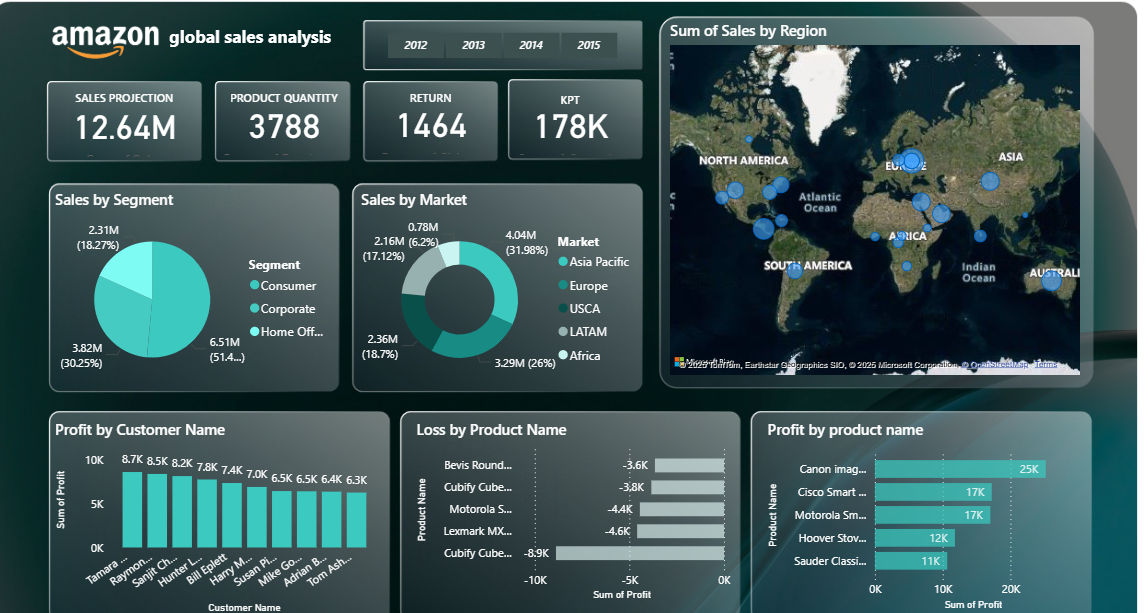

The dashboard page shown, as its layout file describes it:
{"tool":"powerbi","page":{"name":"Page 1","canvas":[1280,720],"ordinal":0},"visuals":[{"type":"slicer","fields":{"Values":["Orders.year"]},"box":[416.7,38.3,298.3,41.7],"z":0},{"type":"card","title":"SALES PROJECTION","fields":{"Values":["Orders.Sales"]},"box":[73.3,108.6,166.7,76.7],"z":1000},{"type":"card","title":"PRODUCT QUANTITY","fields":{"Values":["Orders.Product Name"]},"box":[253.3,108.6,151.7,75],"z":2000},{"type":"card","title":"RETURN","fields":{"Values":["Orders.Ship Date"]},"box":[423.3,108.6,131.7,73.3],"z":4000},{"type":"pieChart","title":"Sales by Segment ","fields":{"Y":["Orders.Sales"],"Category":["Orders.Segment"]},"box":[76.7,216.7,310,216.7],"z":5000},{"type":"donutChart","title":"Sales by Market ","fields":{"Y":["Orders.Sales"],"Category":["Orders.Market"]},"box":[408.3,216.7,310,216.7],"z":6000},{"type":"columnChart","title":"Profit by Customer Name","fields":{"Category":["Orders.Customer Name"],"Y":["Orders.Profit"]},"box":[76.7,465,358.3,215],"z":7000},{"type":"clusteredBarChart","title":"Profit by product name","fields":{"Category":["Orders.Product Name"],"Y":["Orders.Profit"]},"box":[848.3,465,350,211.7],"z":8000},{"type":"clusteredBarChart","title":"Loss by Product Name","fields":{"Y":["Orders.Profit"],"Category":["Orders.Product Name"]},"box":[468.6,465,350,201.4],"z":9000},{"type":"map","fields":{"Category":["Orders.Region"],"Size":["Orders.Sales"]},"box":[743.3,33.3,455,390],"z":10000},{"type":"image","box":[73.3,28.3,126.7,65],"z":11000},{"type":"textbox","box":[200.1,32.5,234.2,60.2],"z":12000},{"type":"card","title":"KPT","fields":{"Values":["Orders.Quantity"]},"box":[574.2,110.6,131.8,73.2],"z":12001}]}

Visuals, with their boxes on the page's 1280x720 design canvas (x1, y1, x2, y2). These are canvas units, not pixel positions in the 1148x613 screenshot, which may show the page scaled, cropped or inside an application window:
slicer - Orders.year: 417,38,715,80
"SALES PROJECTION" card: 73,109,240,185
"PRODUCT QUANTITY" card: 253,109,405,184
"RETURN" card: 423,109,555,182
"Sales by Segment " pieChart: 77,217,387,433
"Sales by Market " donutChart: 408,217,718,433
"Profit by Customer Name" columnChart: 77,465,435,680
"Profit by product name" clusteredBarChart: 848,465,1198,677
"Loss by Product Name" clusteredBarChart: 469,465,819,666
map - Orders.Region x Orders.Sales: 743,33,1198,423
image: 73,28,200,93
textbox: 200,32,434,93
"KPT" card: 574,111,706,184
